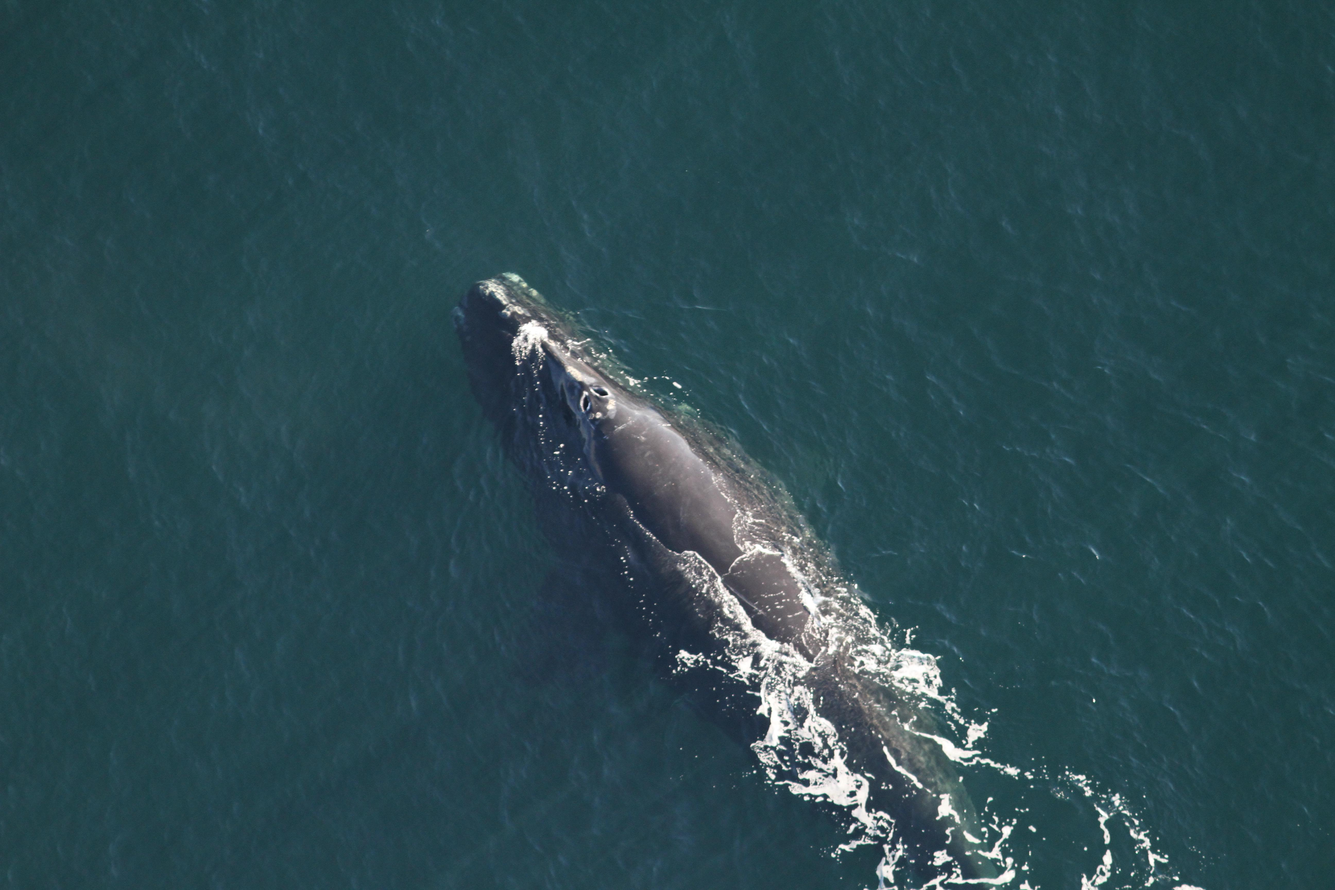whale: (446, 266, 1012, 890)
